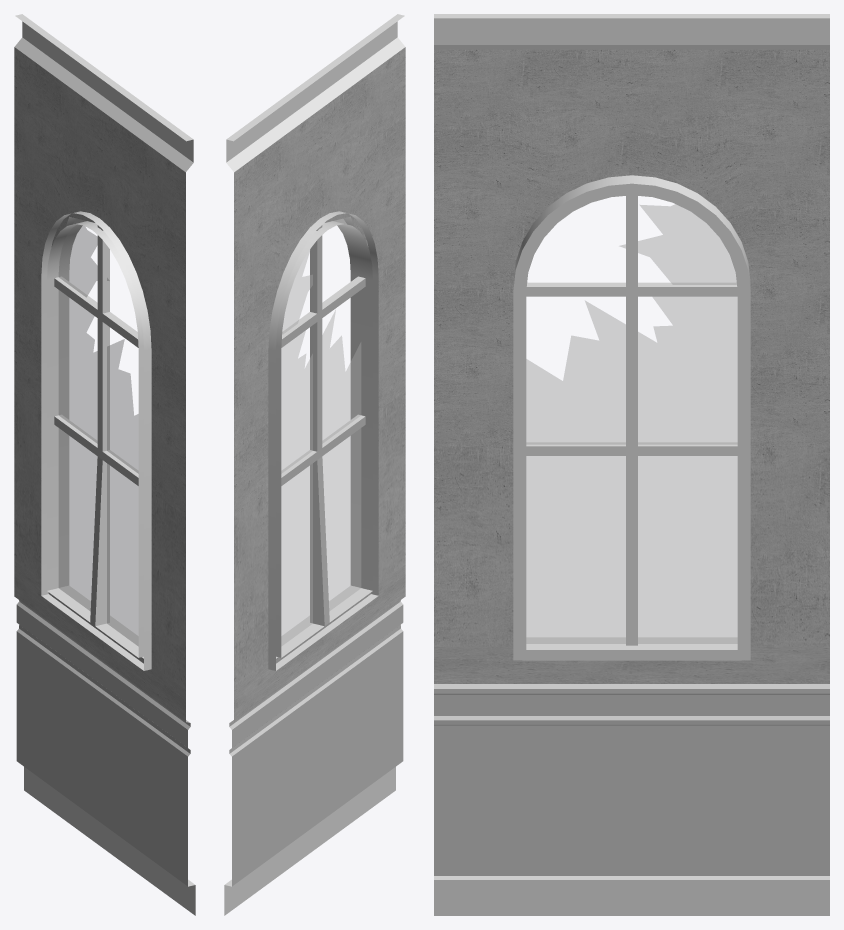
The model's file is C_Window.fbx.
3 renders of one model, left to right at view 1: azimuth 30°, elevation 25°; view 2: azimuth 150°, elevation 25°; view 3: azimuth 270°, elevation 25°, orthographic. The views are drawn at different scales.
Visible parts, largest first — view 1: C_Window; view 2: C_Window; view 3: C_Window.
Boxes of the visible parts, <box> form: C_Window: <box>14,14,195,915</box>; C_Window: <box>224,14,405,915</box>; C_Window: <box>434,14,829,915</box>.
Bounding box in the file's own units: 30 × 1000 × 400.
